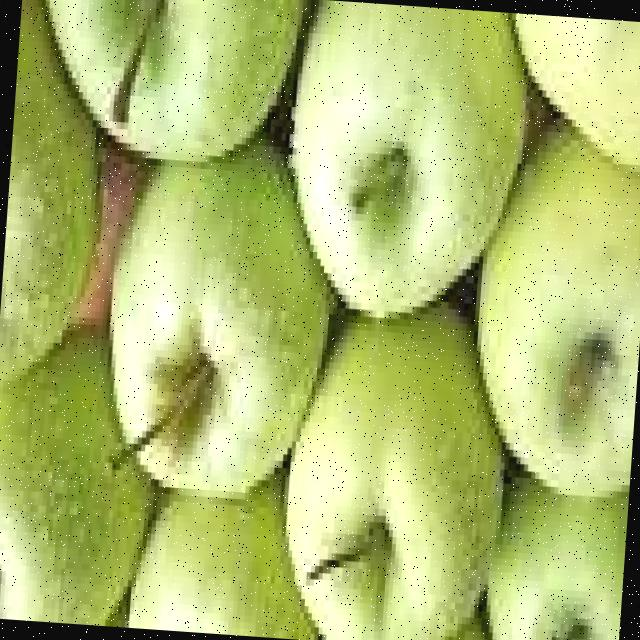Unripe: (98, 136, 340, 502), (466, 120, 640, 501)
